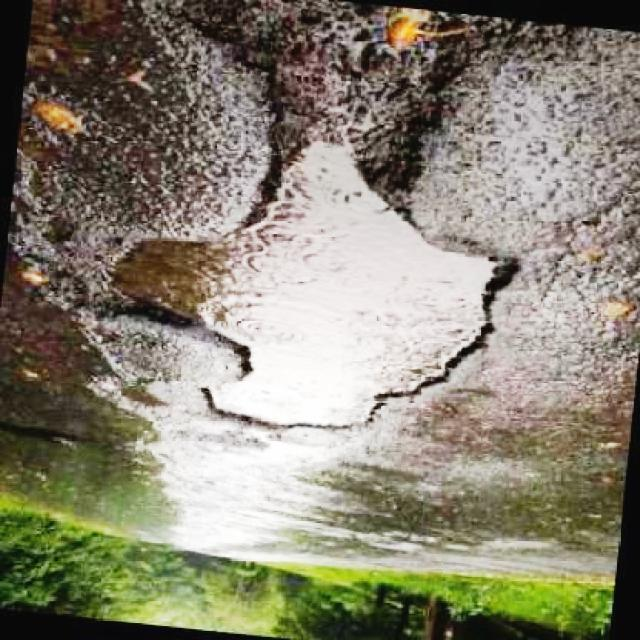pothole: (89, 141, 526, 434), (168, 0, 569, 222)
